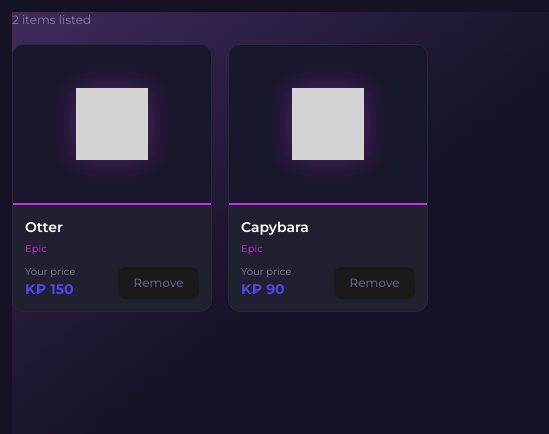
Test case: my listings on the market › takes a listing down, tells the player, and reloads
What coordinates should you click on to do the following:
click the button "Remove" in the row of "K₽ 150"
I would click on:
 (159, 283)
Its box is [118,267,199,299].
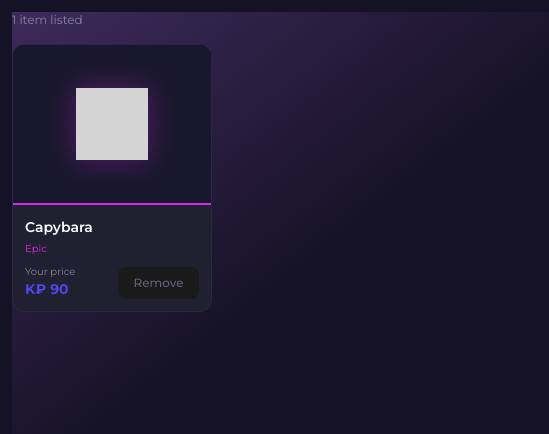
Expected: the text "Otter" is gone
